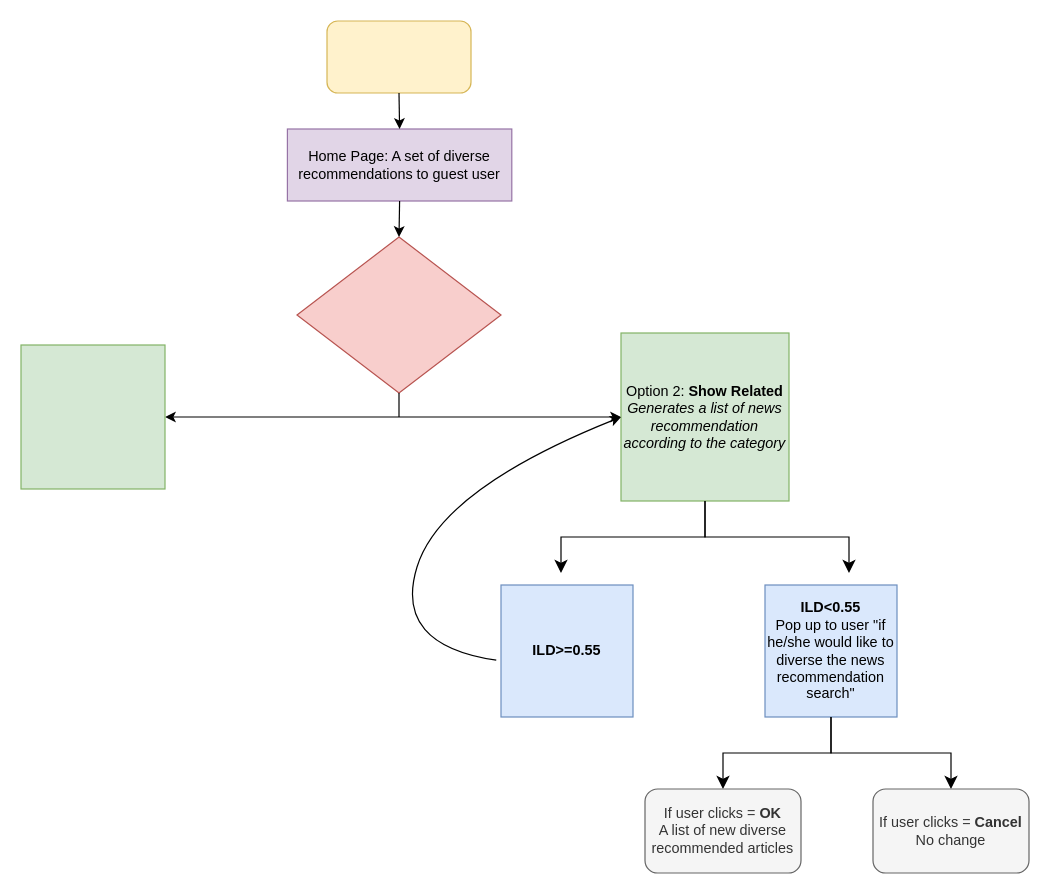
This 1050x894 diagram has some shape labels left out. Here are the shapes that lost their labels. From the top down, the box of each, then its label:
(326, 20, 471, 93): Start
(296, 236, 501, 393): Set of cards having news headline, a short description and two options for user
(20, 344, 165, 489): Option 1: Read More Link to read full news article
